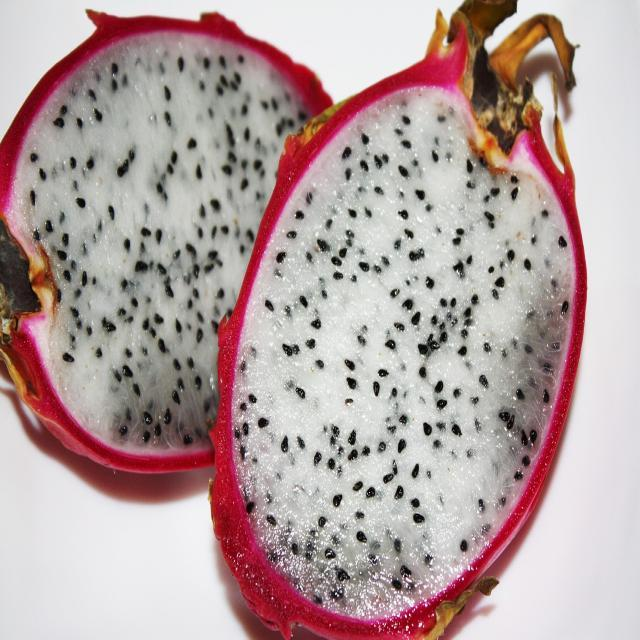dragon-fruit: (207, 60, 590, 639), (0, 14, 335, 476)
